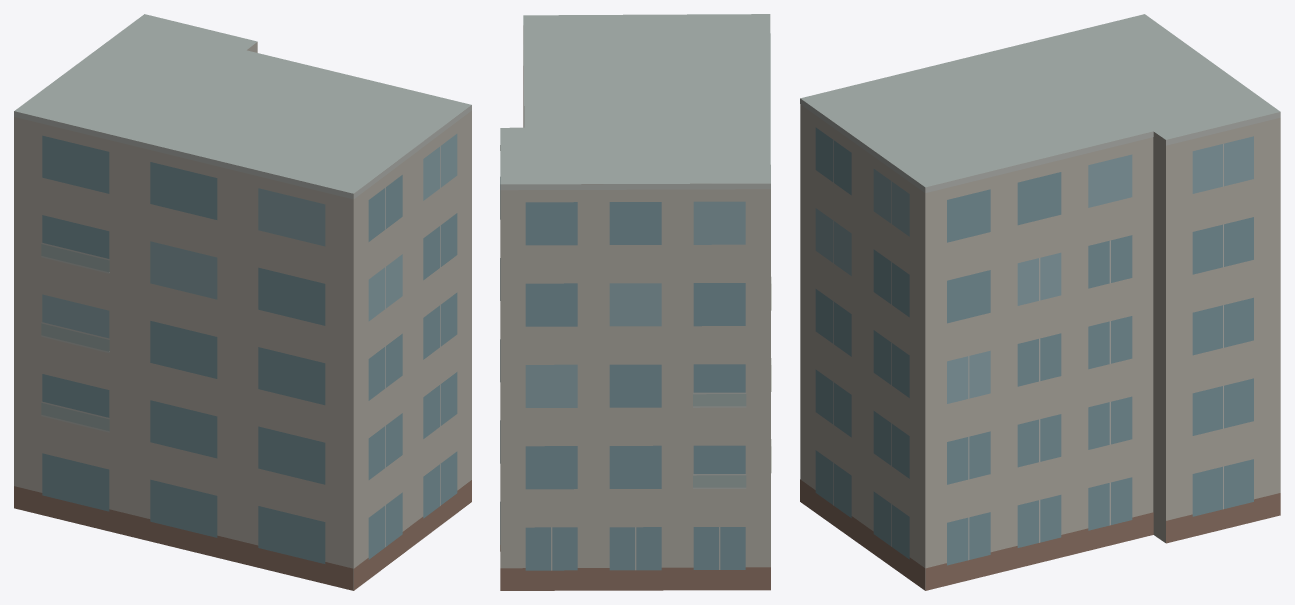
The model's file is survey-upis-32855551.glb.
3 renders of one model, left to right at view 1: azimuth 30°, elevation 25°; view 2: azimuth 150°, elevation 25°; view 3: azimuth 270°, elevation 25°, orthographic. The views are drawn at different scales.
Parts seen in each view (by area): view 1: survey-upis-32855551.tmp; view 2: survey-upis-32855551.tmp; view 3: survey-upis-32855551.tmp.
Boxes of the visible parts, x1,y1,x2,y2 form: survey-upis-32855551.tmp: [14, 14, 471, 590]; survey-upis-32855551.tmp: [500, 14, 771, 590]; survey-upis-32855551.tmp: [800, 14, 1280, 590].
Bounding box in the file's own units: 15.68 × 17 × 18.36.
